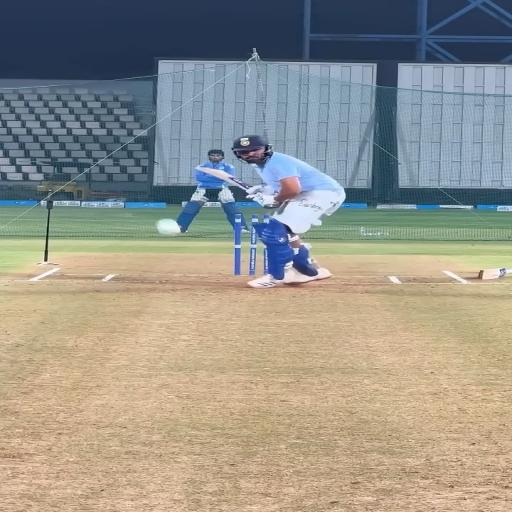Cricket bat: (197, 166, 251, 190)
